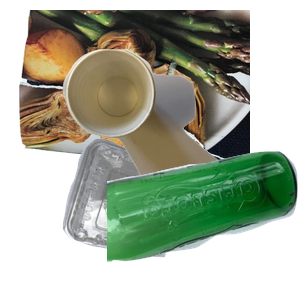glass: (107, 149, 300, 300)
paper: (16, 10, 256, 172)
plastic: (60, 136, 237, 300)
trash: (60, 47, 300, 227)
